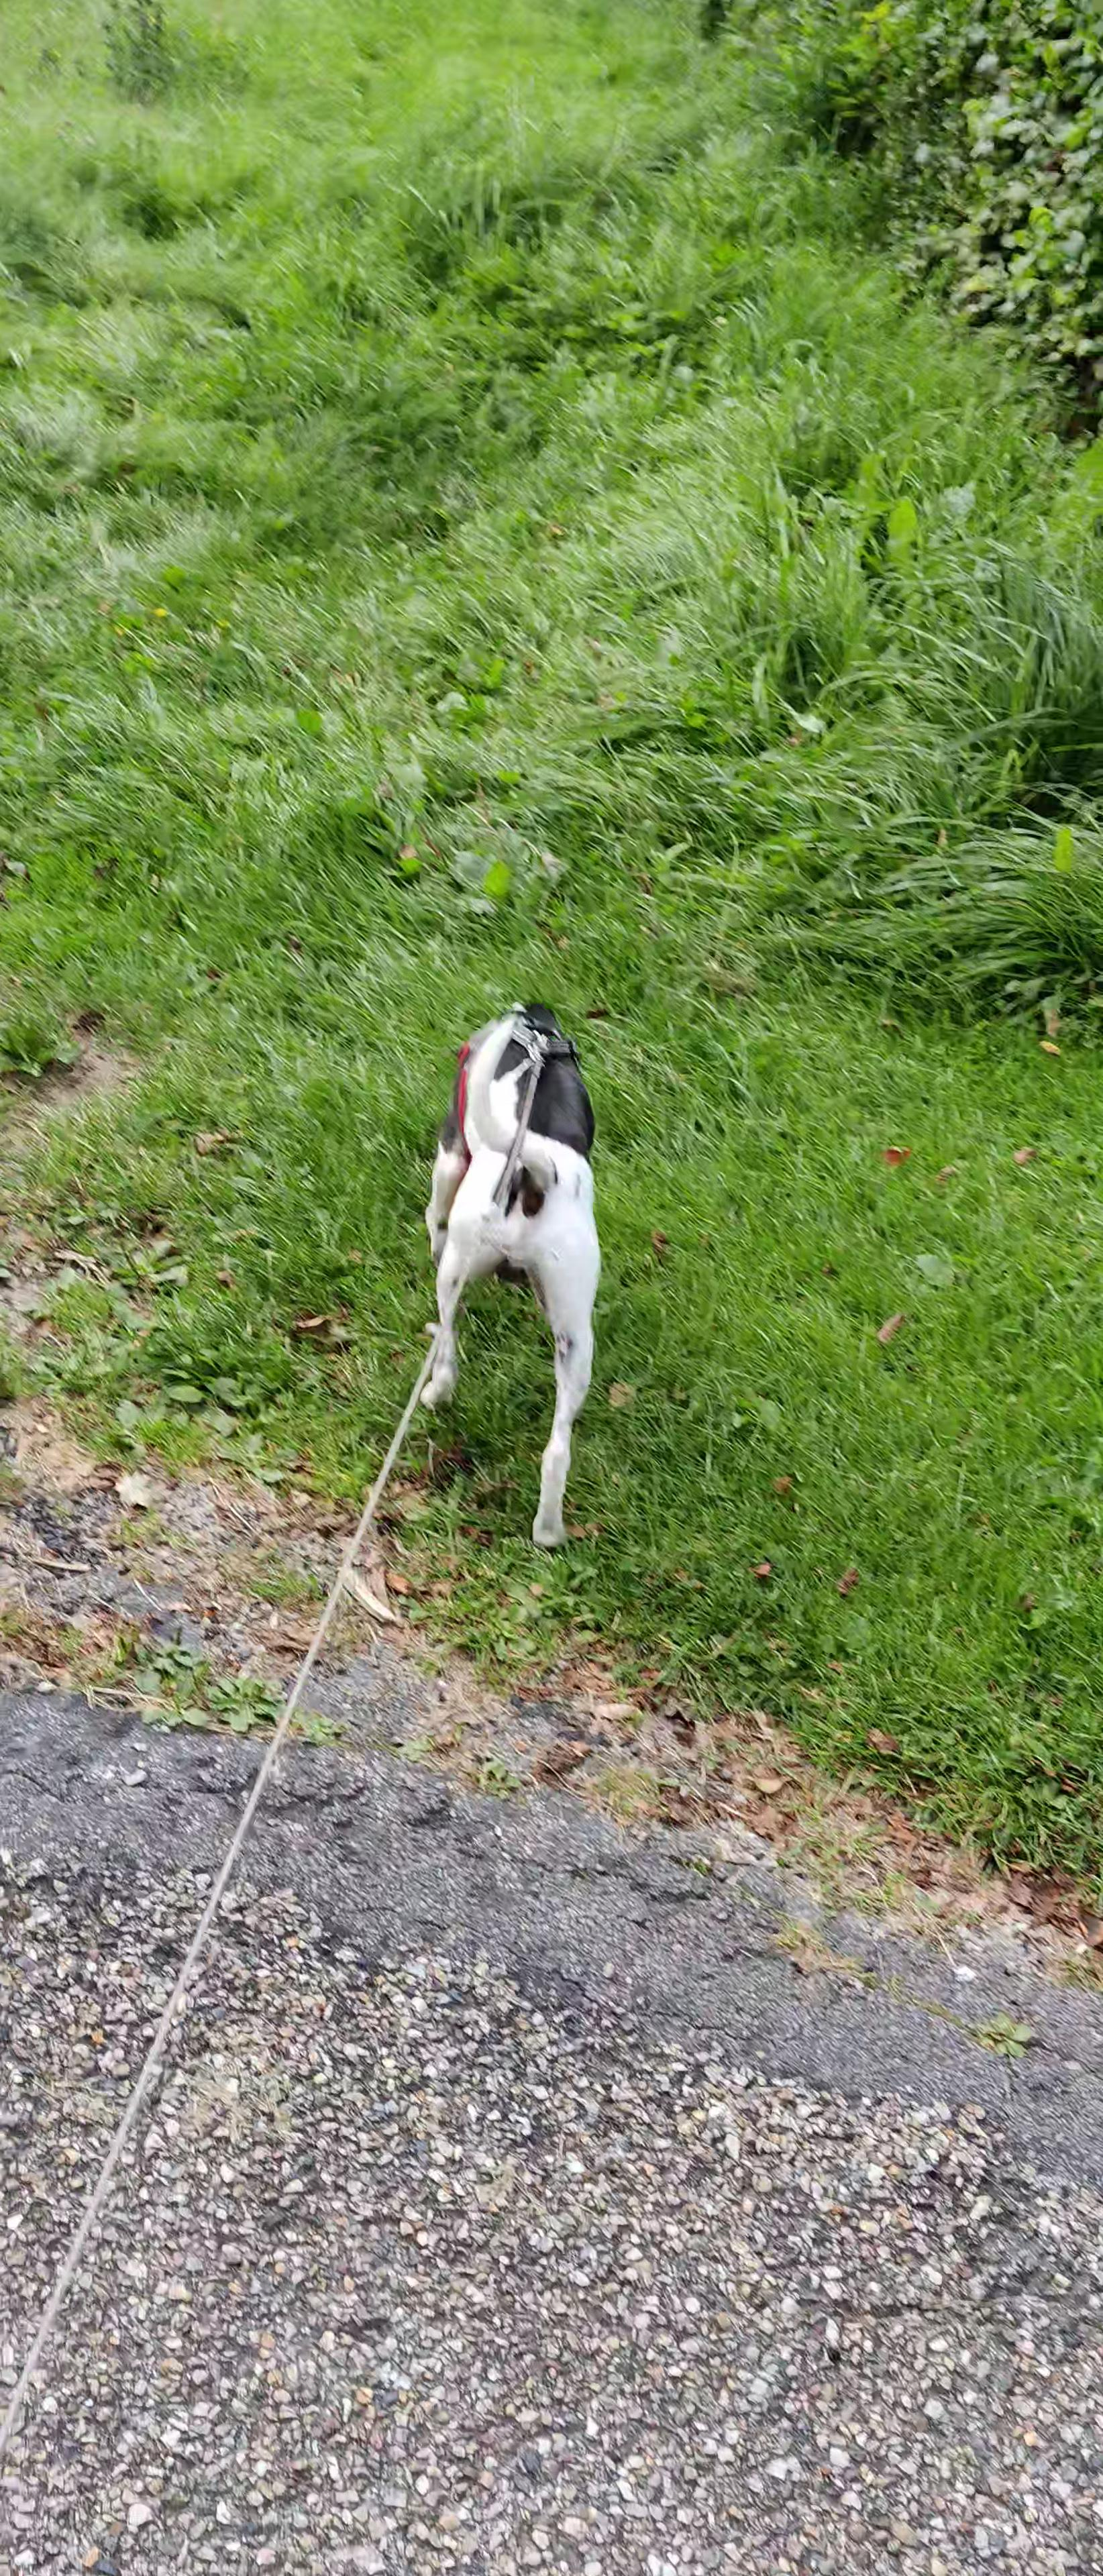Dog: (414, 992, 610, 1562)
